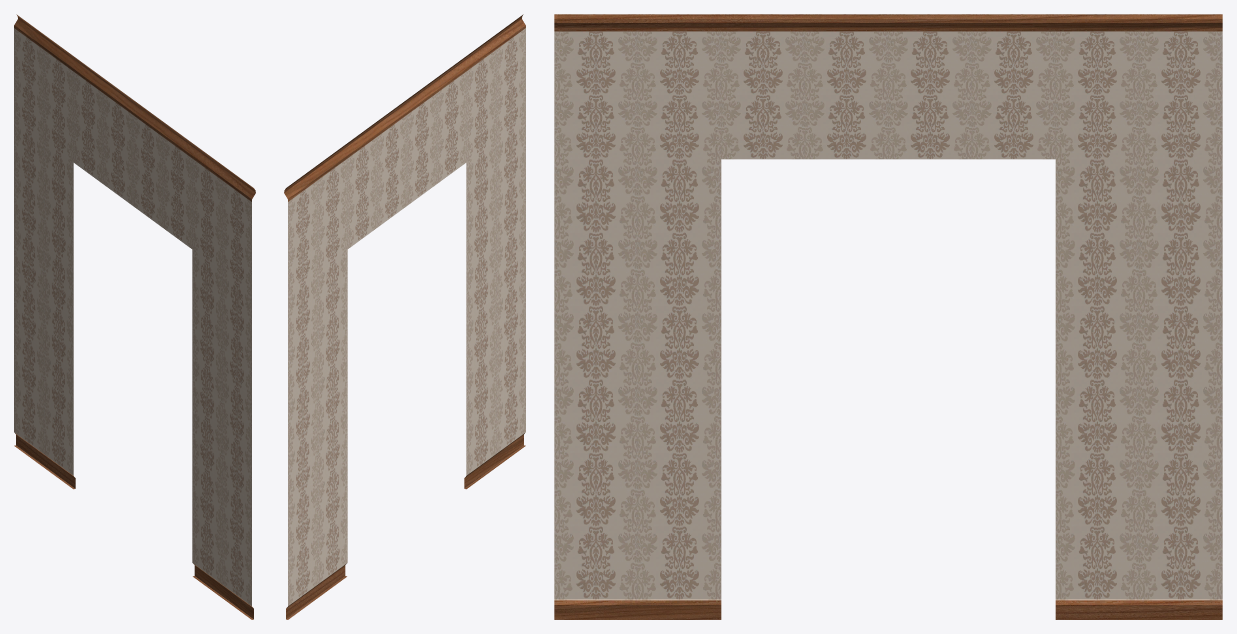
Rendered from fine_bright_door.dae.
3 renders of one model, left to right at view 1: azimuth 30°, elevation 25°; view 2: azimuth 150°, elevation 25°; view 3: azimuth 270°, elevation 25°, orthographic. The views are drawn at different scales.
Parts seen in each view (by area): view 1: Plane_005; view 2: Plane_005; view 3: Plane_005.
Boxes of the visible parts, <box> form: Plane_005: <box>14,14,255,619</box>; Plane_005: <box>284,14,525,619</box>; Plane_005: <box>554,14,1222,619</box>.
Bounding box in the file's own units: 0.0388 × 4 × 4.
